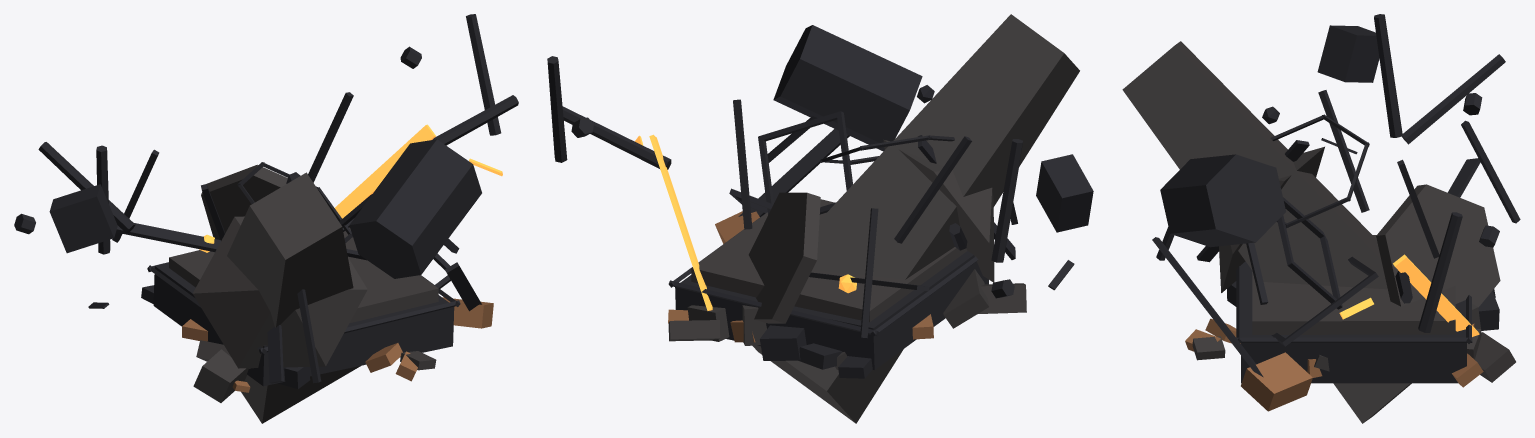
Rendered from Wreck_FlakLantern.fbx.
3 renders of one model, left to right at view 1: azimuth 30°, elevation 25°; view 2: azimuth 150°, elevation 25°; view 3: azimuth 270°, elevation 25°, orthographic. The views are drawn at different scales.
Parts seen in each view (by area): view 1: Wreck_FlakLantern; view 2: Wreck_FlakLantern; view 3: Wreck_FlakLantern.
Part boxes in pixels (x1,y1,x2,y2): Wreck_FlakLantern: (14, 14, 518, 423); Wreck_FlakLantern: (547, 14, 1093, 423); Wreck_FlakLantern: (1122, 14, 1520, 423).
Bounding box in the file's own units: 1.55 × 1.01 × 1.06.
